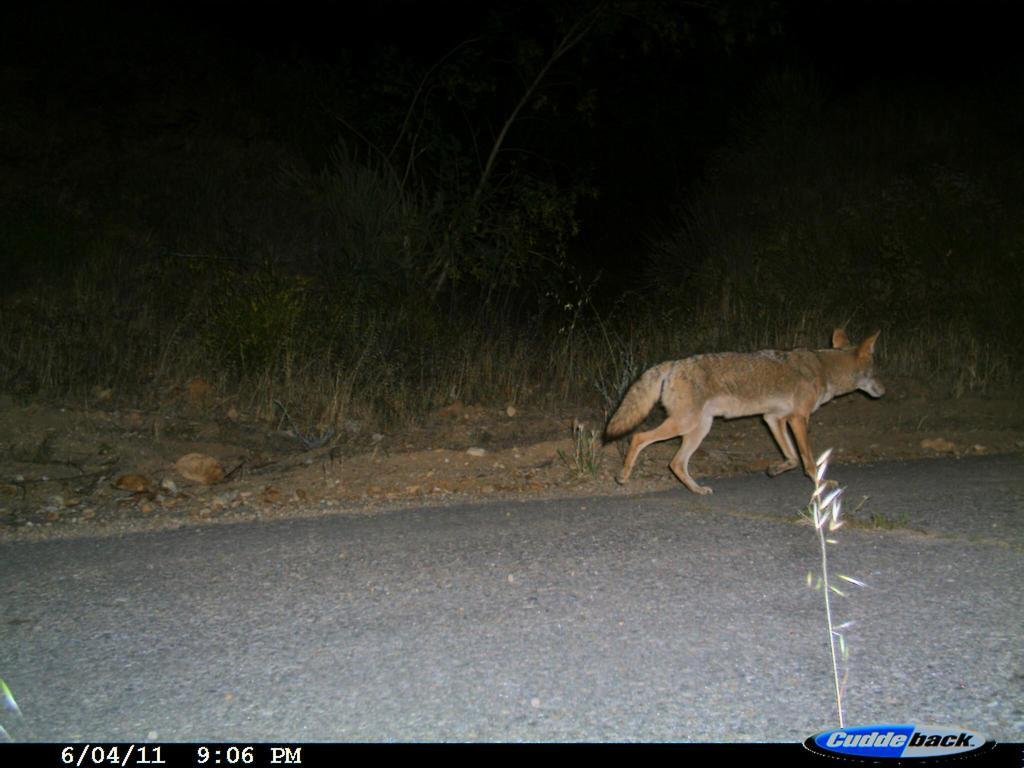coyote: (591, 317, 897, 511)
